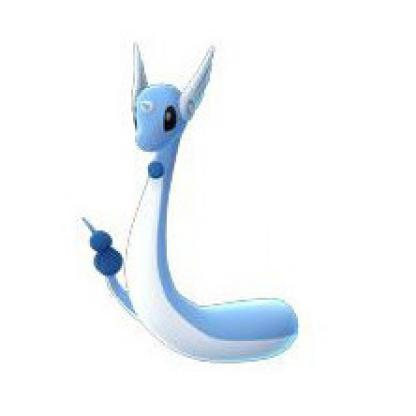Dragonair: (67, 28, 301, 369)
